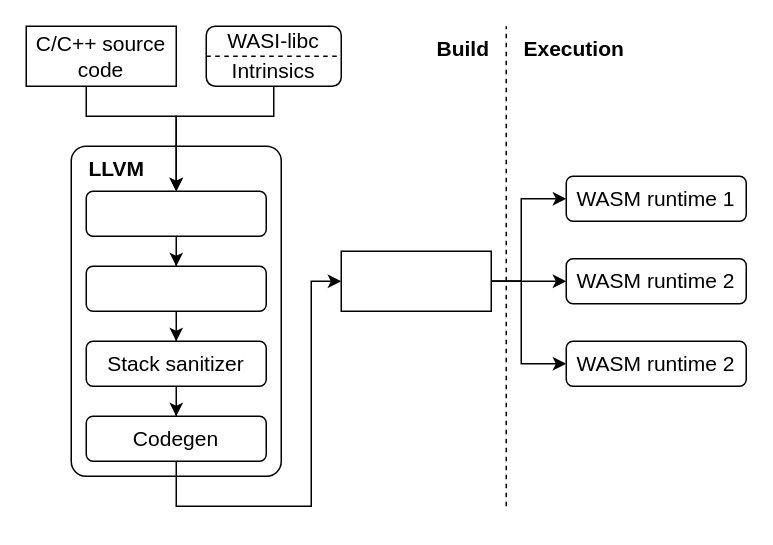
Image size: 773x545. Some labels were removed from this diagram. Here are the shapes that lost their labels. From the top down, the centre of each, then its label:
At point 175,213: "Clang".
At point 175,288: "Optimizations".
At point 415,280: "WASM binary".
